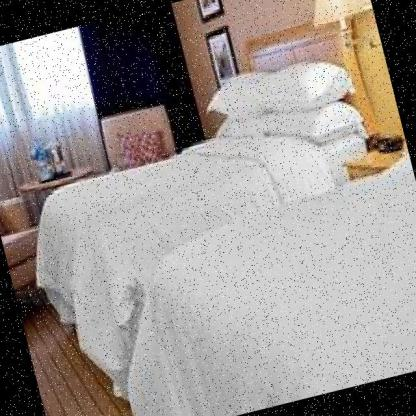Bed: (53, 54, 379, 300)
